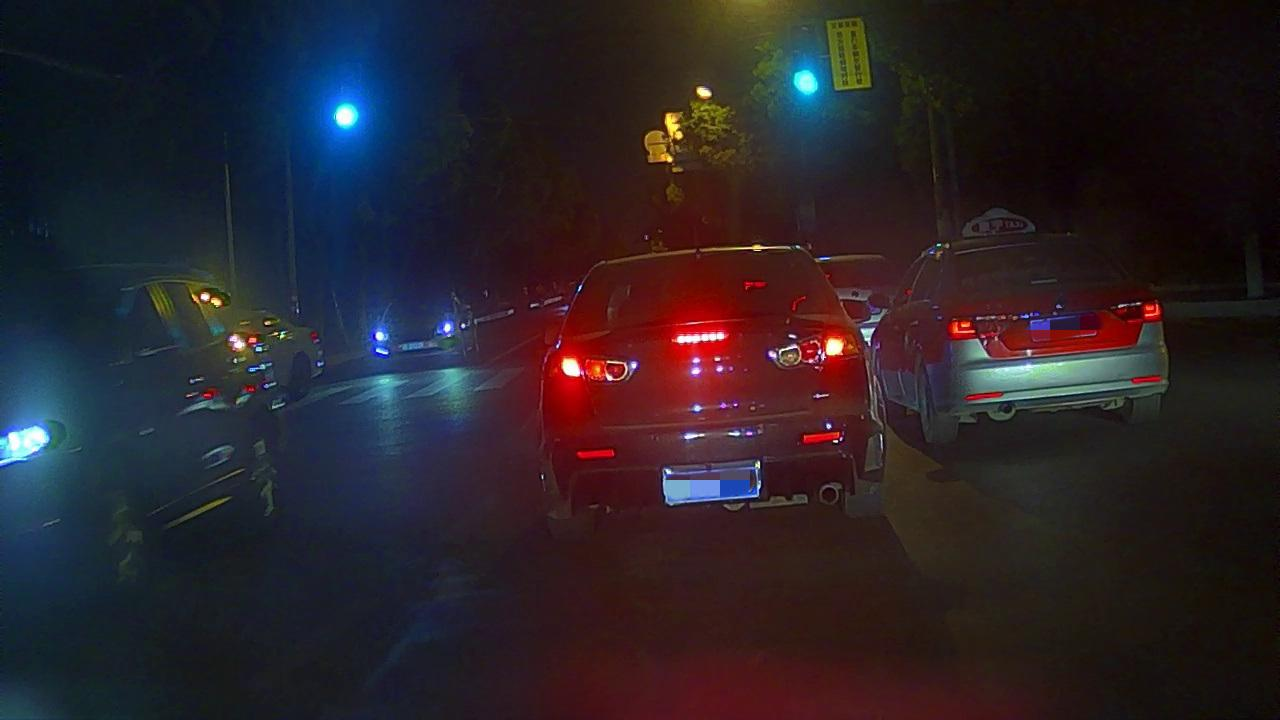traffic_light: (789, 60, 827, 101), (328, 100, 366, 138)
